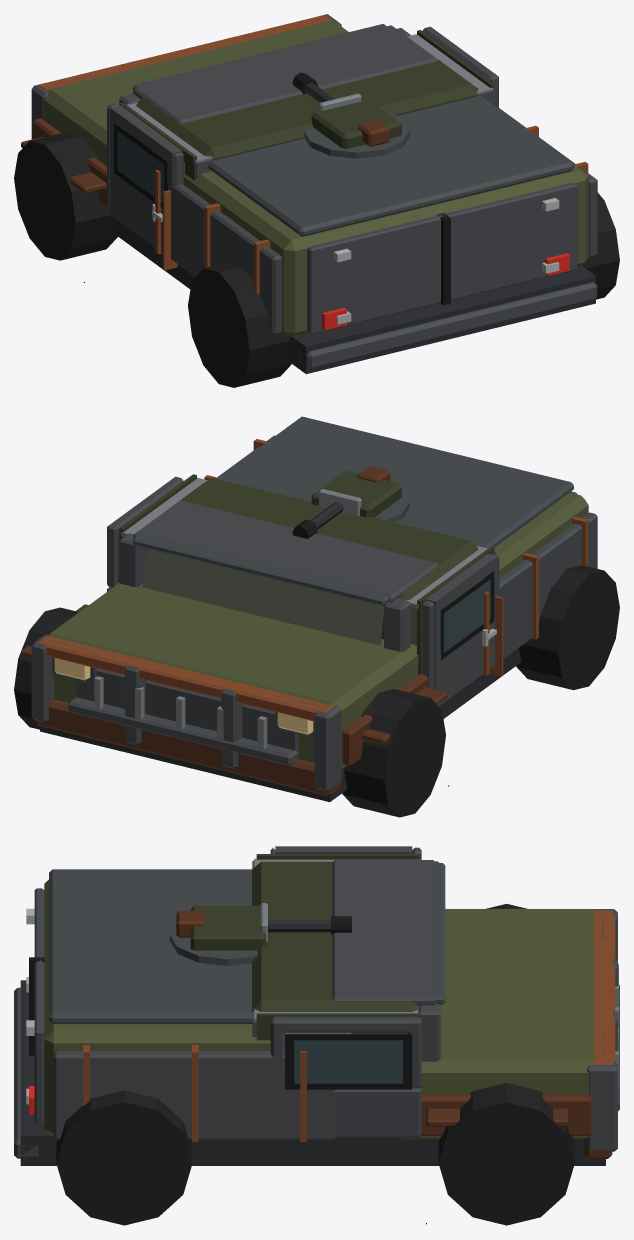
Rendered from piece_armored_van.fbx.
The picture shows the model from 3 angles, top to bottom: view 1: azimuth 30°, elevation 25°; view 2: azimuth 150°, elevation 25°; view 3: azimuth 270°, elevation 25°; orthographic projection. The views are drawn at different scales.
Visible parts, largest first — view 1: piece_armored_van, Wheel_FL, Wheel_RL, Door_L, Head, Wheel_RR; view 2: piece_armored_van, Wheel_FL, Wheel_RL, Door_L, Head, Wheel_FR; view 3: piece_armored_van, Wheel_FR, Wheel_RR, Head, Door_L.
Part boxes in pixels (x1=…): piece_armored_van: x1=21, y1=14, x2=597, y2=374; Wheel_FL: x1=14, y1=132, x2=117, y2=260; Wheel_RL: x1=188, y1=263, x2=291, y2=387; Door_L: x1=110, y1=105, x2=182, y2=270; Head: x1=292, y1=72, x2=401, y2=148; Wheel_RR: x1=582, y1=192, x2=619, y2=299; piece_armored_van: x1=21, y1=416, x2=597, y2=802; Wheel_FL: x1=342, y1=689, x2=445, y2=817; Wheel_RL: x1=516, y1=565, x2=619, y2=690; Door_L: x1=425, y1=553, x2=503, y2=706; Head: x1=292, y1=466, x2=401, y2=538; Wheel_FR: x1=14, y1=607, x2=78, y2=729; piece_armored_van: x1=14, y1=847, x2=619, y2=1165; Wheel_FR: x1=438, y1=1083, x2=574, y2=1225; Wheel_RR: x1=56, y1=1090, x2=192, y2=1225; Head: x1=176, y1=903, x2=351, y2=950; Door_L: x1=275, y1=846, x2=412, y2=853.
Bounding box in the file's own units: 4.98 × 2.49 × 6.42.
